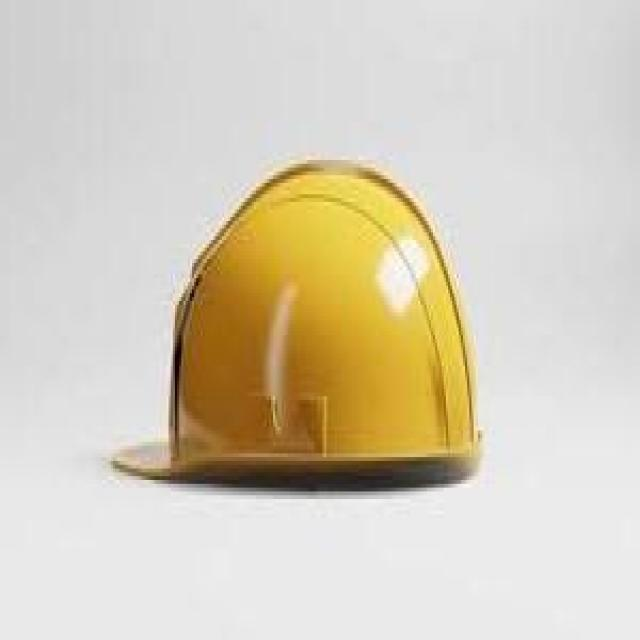Safety-Helmet: (107, 145, 497, 499)
